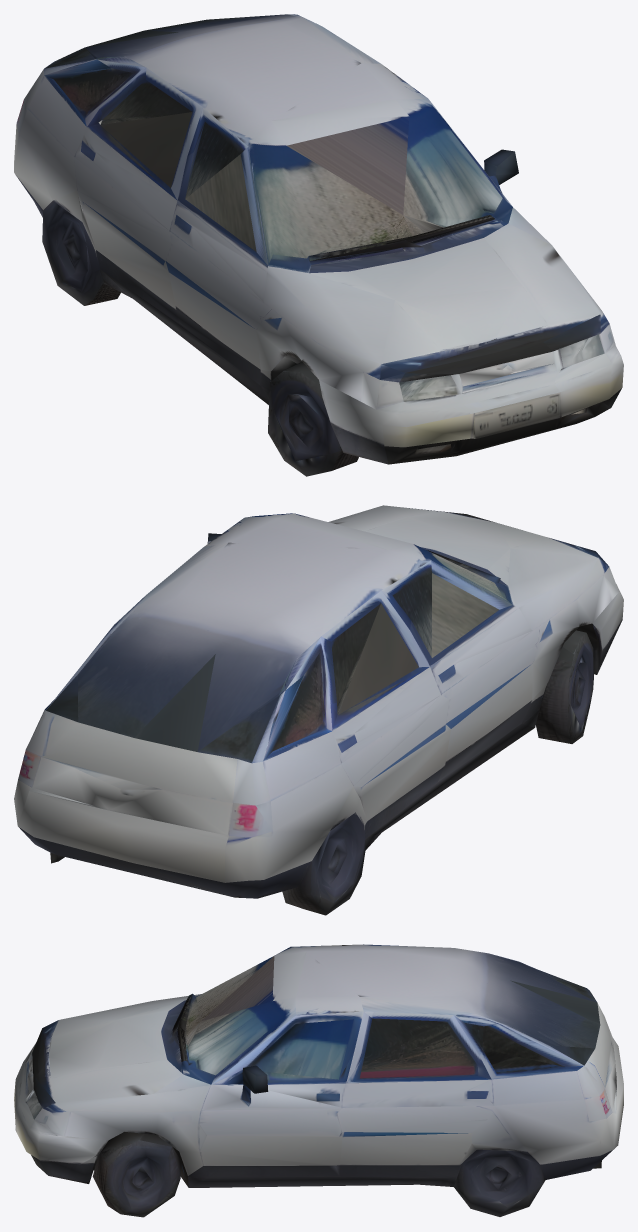
The picture shows the model from 3 angles, top to bottom: view 1: azimuth 30°, elevation 25°; view 2: azimuth 150°, elevation 25°; view 3: azimuth 270°, elevation 25°; orthographic projection. The views are drawn at different scales.
Visible parts, largest first — view 1: texture_pbr_v128.001; view 2: texture_pbr_v128.001; view 3: texture_pbr_v128.001.
Boxes of the visible parts, x1,y1,x2,y2 form: texture_pbr_v128.001: [14, 14, 623, 476]; texture_pbr_v128.001: [14, 505, 623, 915]; texture_pbr_v128.001: [14, 944, 623, 1217].
Bounding box in the file's own units: 51.8 × 41.39 × 116.
1 material, 1 textured.
